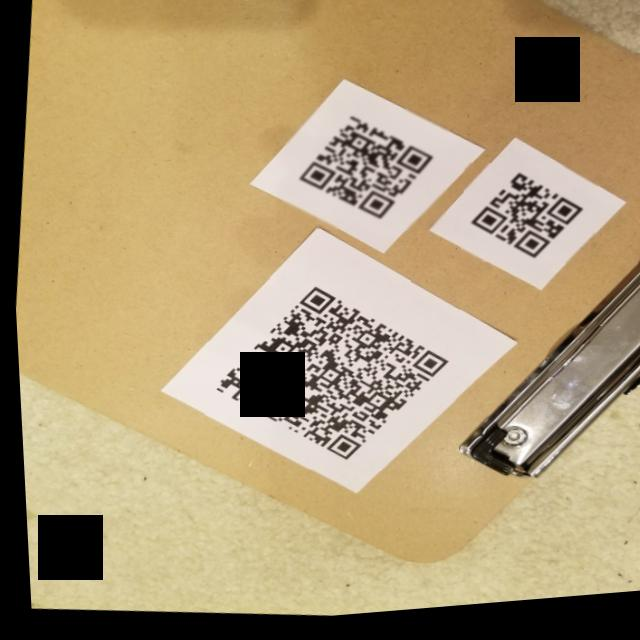QR_CODE: (188, 263, 465, 495), (273, 101, 454, 249), (453, 161, 601, 283)
